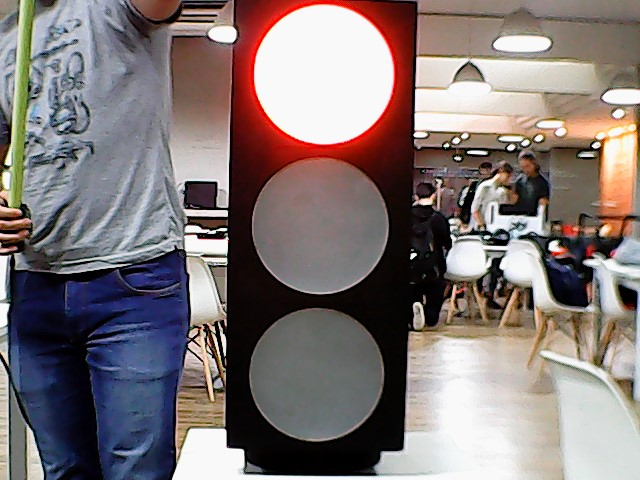vermelho: (226, 1, 422, 475)
